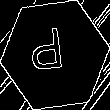P_S: (35, 28, 75, 82)
